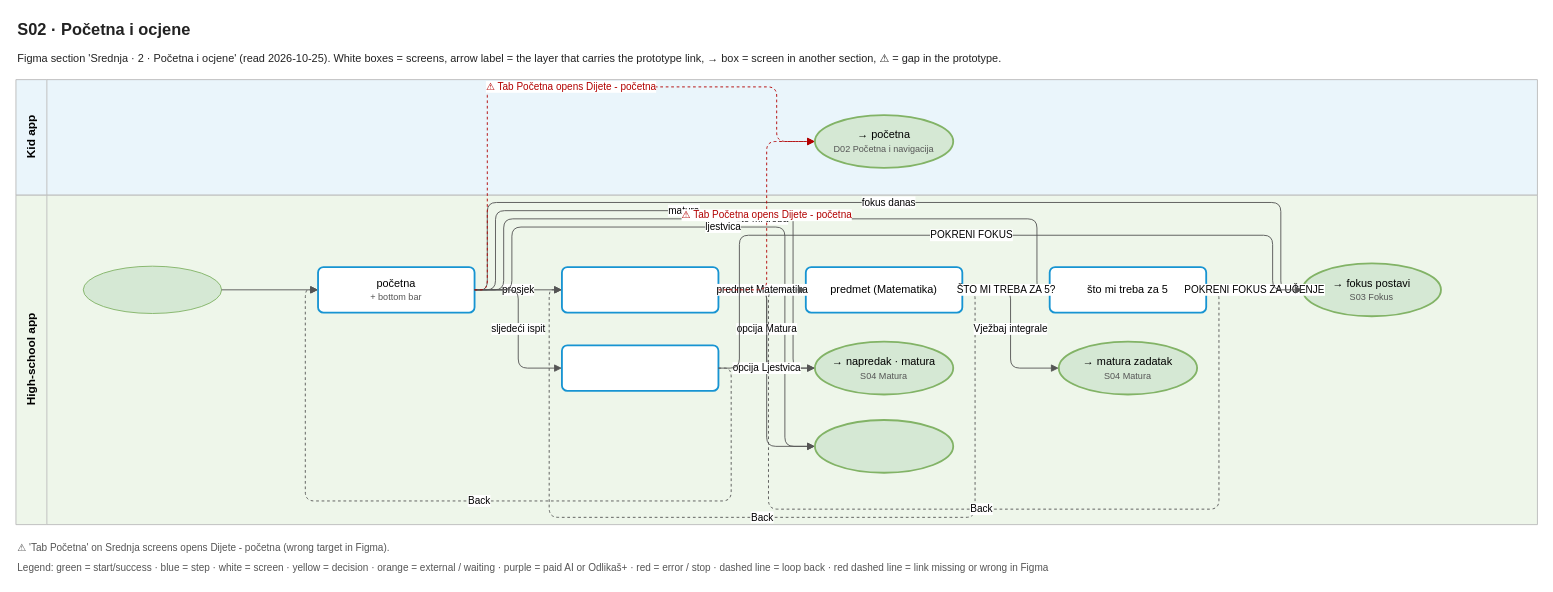
This 1553x592 diagram has some shape labels left out. The centre of each missing label's shape, as x and y in pixels:
from S01, S03, S05, S07: [152,289]
kalendar ispita: [640,367]
napredak · ocjene + bottom bar: [640,289]
→ napredak · ljestvica S06 Ljestvica: [884,446]
